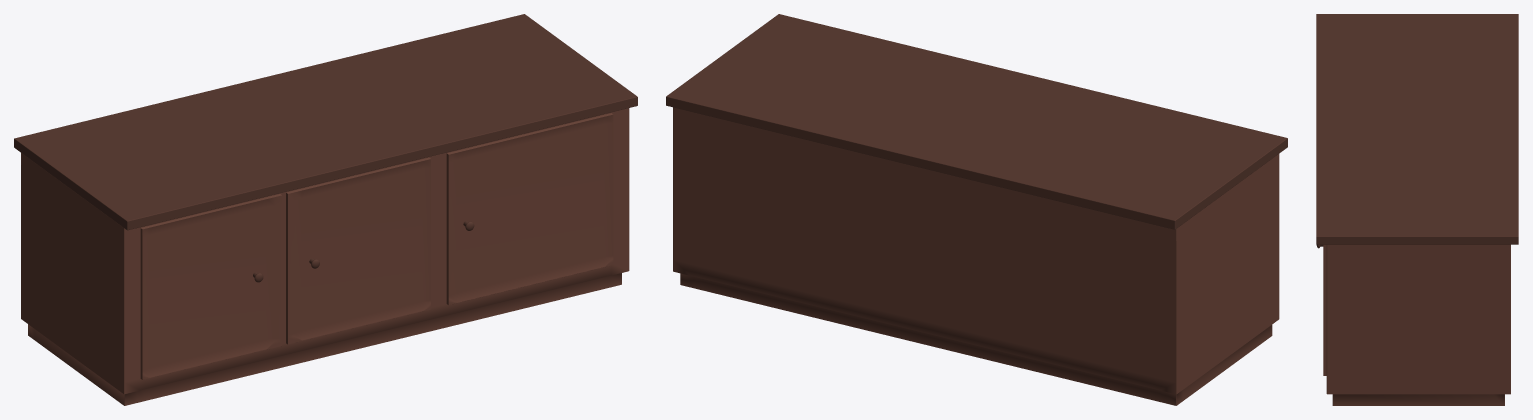
Rendered from kücheMitte.fbx.
3 views of the same model, side by side, from view 1: azimuth 30°, elevation 25°; view 2: azimuth 150°, elevation 25°; view 3: azimuth 270°, elevation 25° (orthographic). The views are drawn at different scales.
Parts seen in each view (by area): view 1: pCube1, pCube2; view 2: pCube1, pCube2; view 3: pCube2, pCube1.
Boxes of the visible parts, x1=… form: pCube1: x1=21, y1=108, x2=629, y2=405; pCube2: x1=14, y1=14, x2=637, y2=230; pCube1: x1=673, y1=107, x2=1279, y2=405; pCube2: x1=666, y1=14, x2=1287, y2=229; pCube2: x1=1316, y1=14, x2=1518, y2=244; pCube1: x1=1323, y1=244, x2=1510, y2=405.
Bounding box in the file's own units: 2.86 × 1.03 × 1.1.
